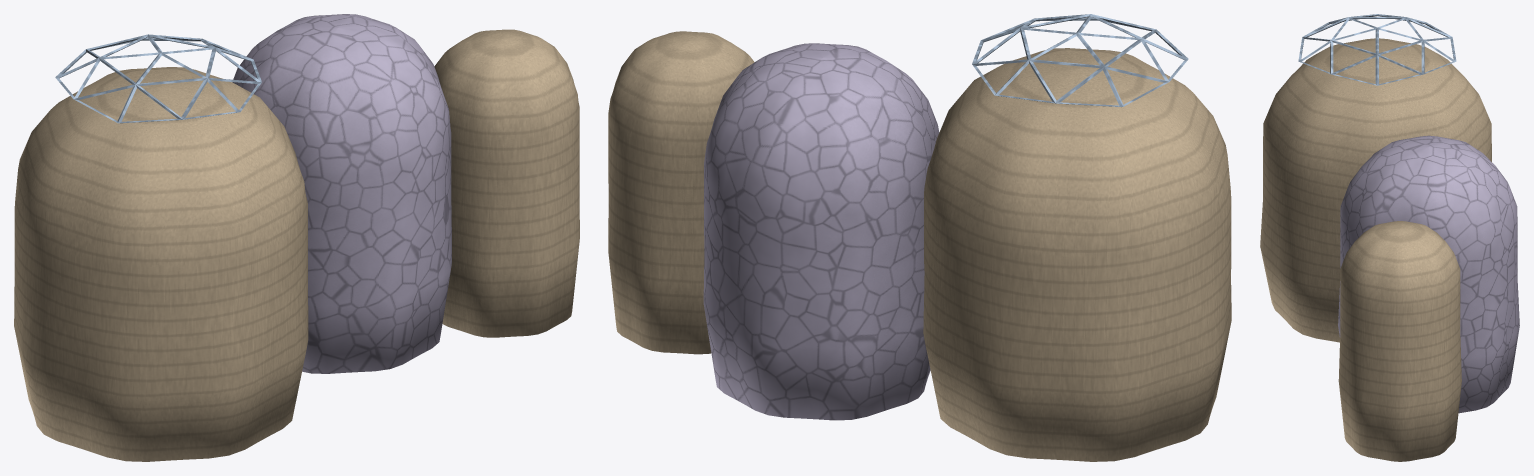
Rendered from rare_shed_shell.glb.
3 views of the same model, side by side, from view 1: azimuth 30°, elevation 25°; view 2: azimuth 150°, elevation 25°; view 3: azimuth 270°, elevation 25° (orthographic). The views are drawn at different scales.
Visible parts, largest first — view 1: RareShedShell; view 2: RareShedShell; view 3: RareShedShell.
Boxes of the visible parts, x1,y1,x2,y2 form: RareShedShell: (14, 14, 579, 461); RareShedShell: (608, 14, 1231, 461); RareShedShell: (1260, 14, 1519, 461).
Size of the model in its own units: 8.73 by 5.71 by 4.54.
Materials: 4 (4 with a texture image).
